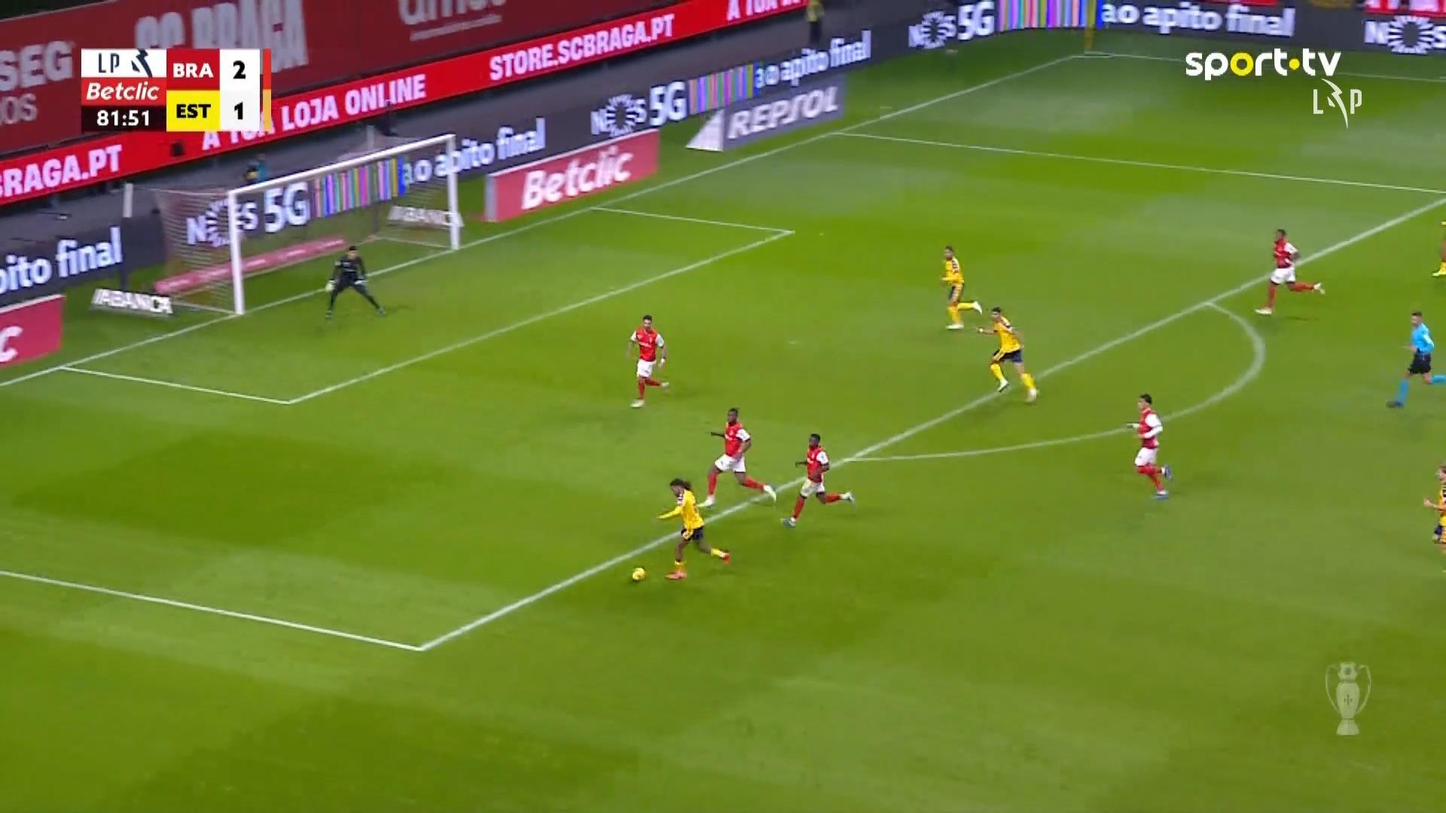ball: (630, 566, 645, 582)
goalkeeper: (323, 244, 385, 320)
player: (697, 406, 777, 508), (655, 477, 730, 580), (779, 432, 855, 528), (1253, 227, 1326, 315), (975, 306, 1039, 403), (1124, 392, 1173, 499), (625, 313, 670, 408), (938, 245, 982, 330), (1422, 462, 1445, 550), (1430, 218, 1445, 277)
referee: (1384, 309, 1444, 408)
